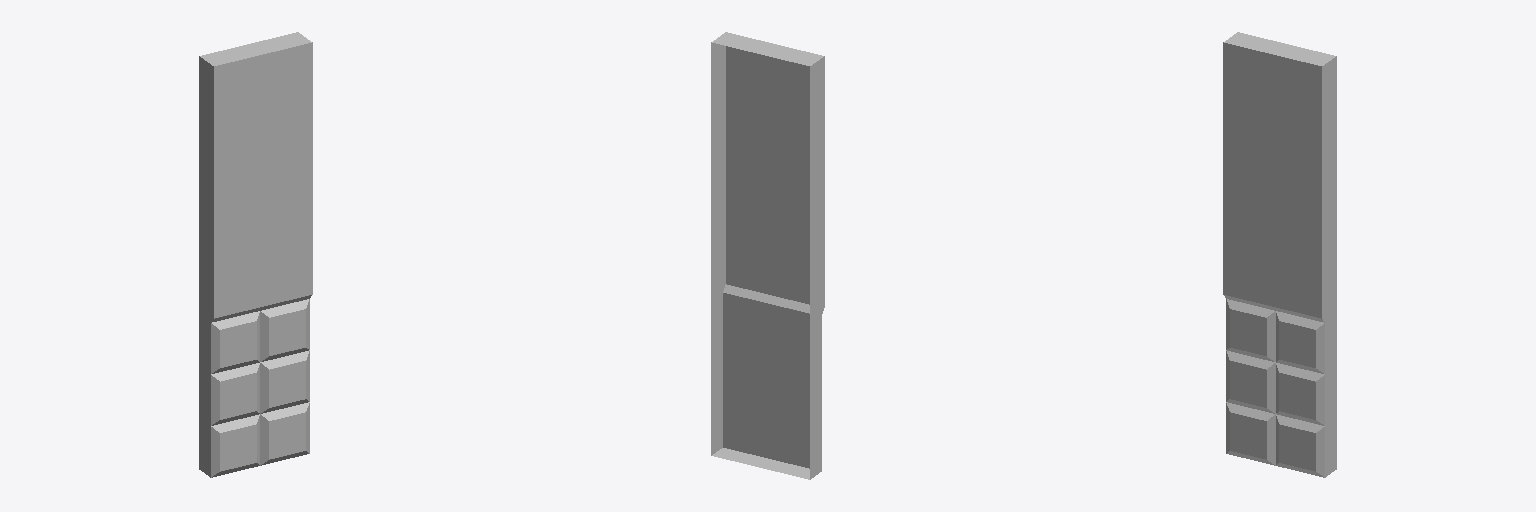
Rendered from wall_modular_tiled_half_straight_A.obj.
The picture shows the model from 3 angles: view 1: azimuth 30°, elevation 25°; view 2: azimuth 150°, elevation 25°; view 3: azimuth 330°, elevation 25°; orthographic projection.
Parts seen in each view (by area): view 1: wall_modular_tiled_half_straight_A; view 2: wall_modular_tiled_half_straight_A; view 3: wall_modular_tiled_half_straight_A.
Boxes of the visible parts, <box> form: wall_modular_tiled_half_straight_A: <box>199,32,312,477</box>; wall_modular_tiled_half_straight_A: <box>711,32,824,479</box>; wall_modular_tiled_half_straight_A: <box>1223,32,1336,477</box>.
Bounding box in the file's own units: 1 × 4 × 0.2506.